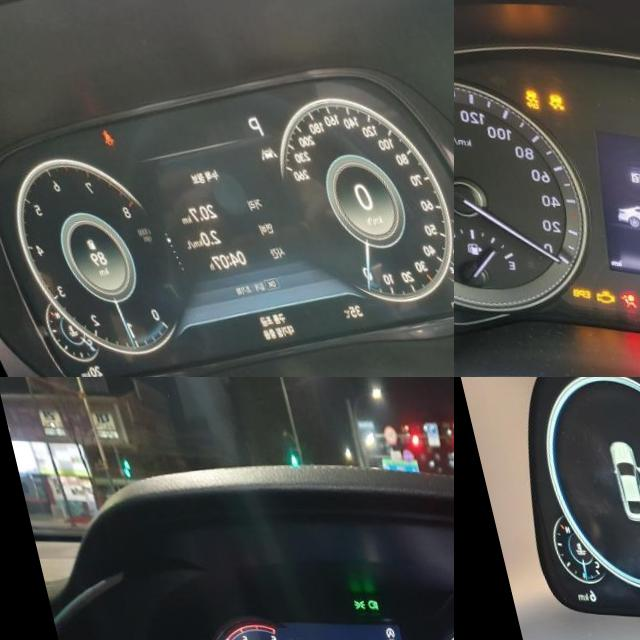LaneCenteringOff: (245, 141, 269, 160)
Low beam: (356, 596, 369, 608)
SideLamp: (342, 597, 356, 608)
